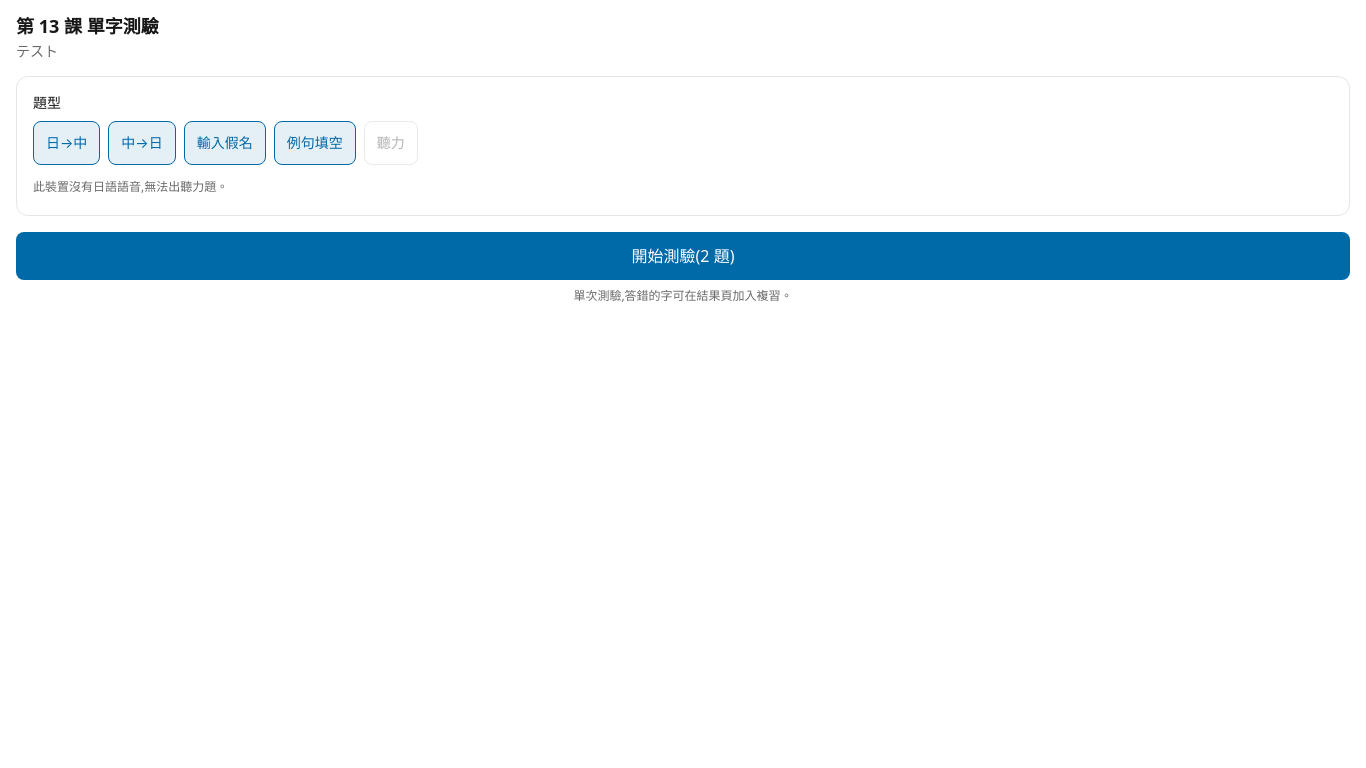
QuizRunner › 顯示進度與第一題選項
Step 1. Click the button "開始測驗(2 題)" → (683, 256), box [16, 232, 1350, 280]
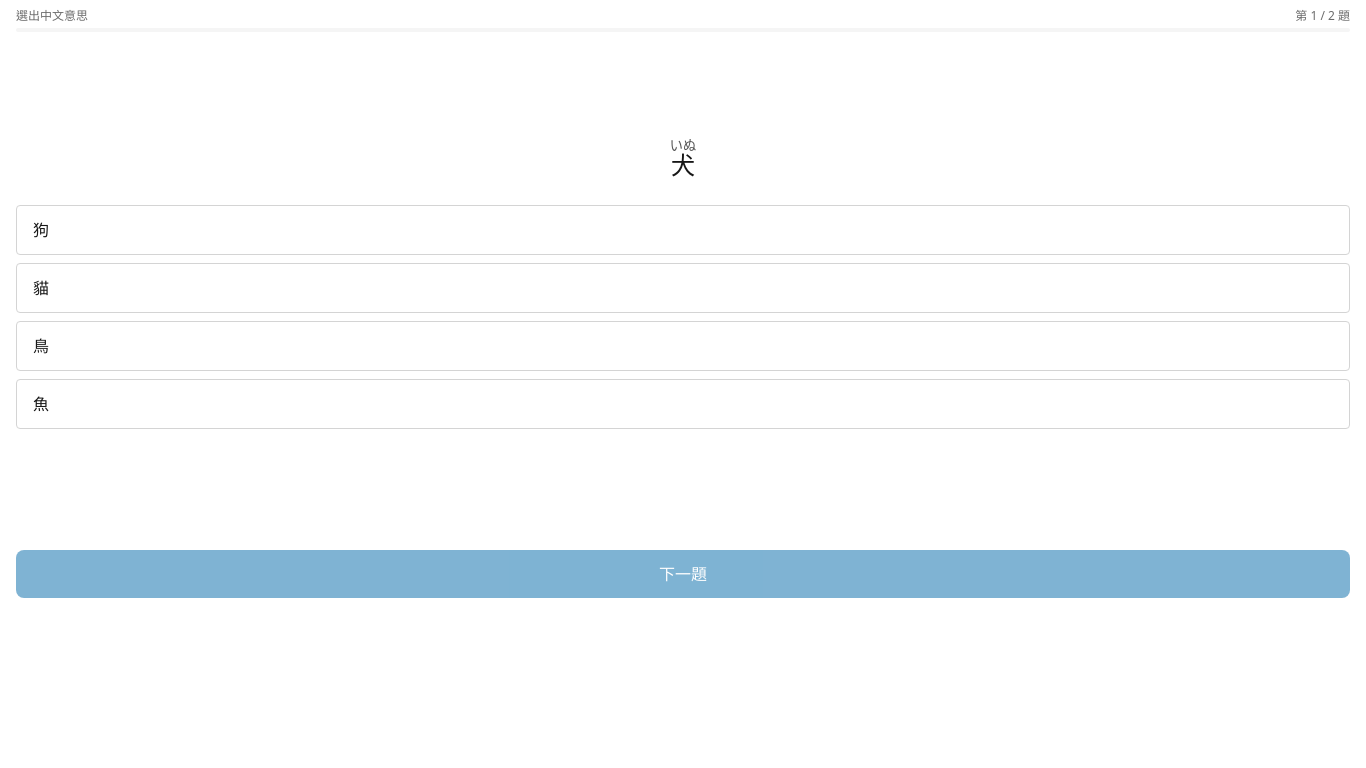
Check: the text "第 1 / 2 題" is shown, box [1295, 8, 1350, 24]
Check: the text "選出中文意思" is shown, box [16, 8, 88, 24]
Check: the button "狗" is shown, box [16, 205, 1350, 255]
